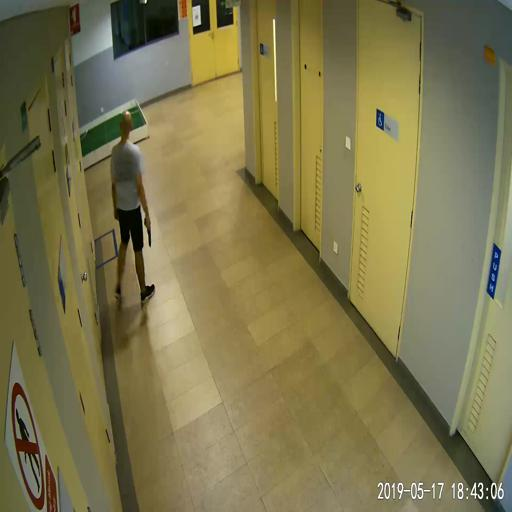pistol: (144, 217, 152, 246)
